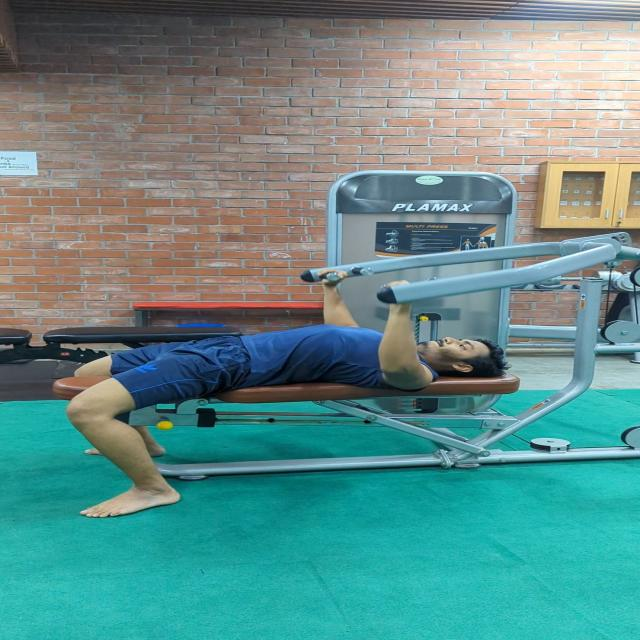Normal_BrenchPress: (24, 260, 512, 532)
